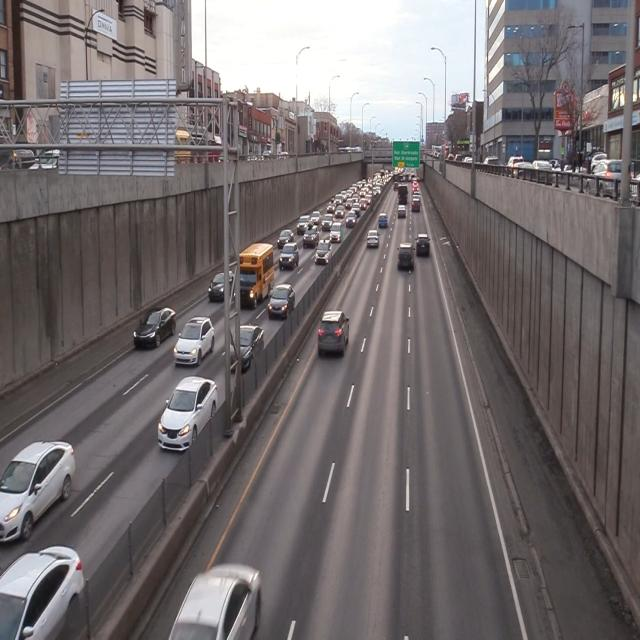Car: (0, 439, 78, 542), (158, 376, 219, 459), (232, 240, 275, 310), (131, 299, 176, 356), (173, 314, 216, 371), (316, 308, 352, 358), (267, 287, 295, 320), (397, 243, 416, 274), (367, 231, 380, 249)
